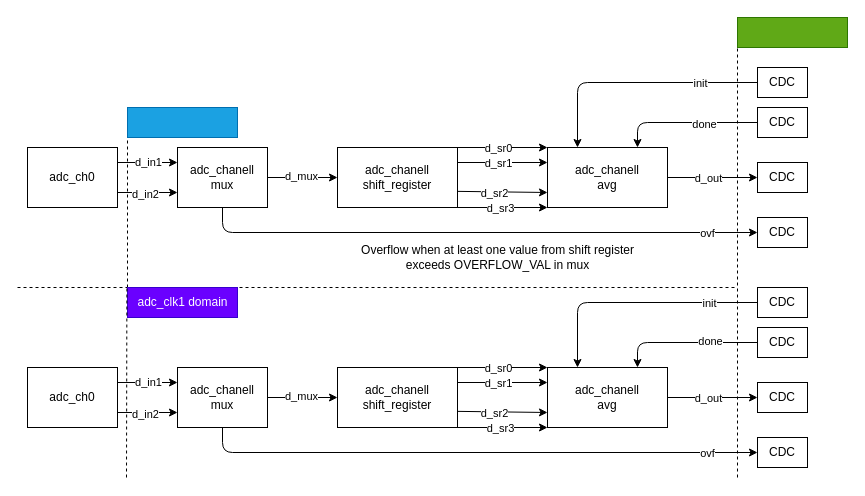
This 865x496 diagram has some shape labels left out. Each missing label, with the box of its shape:
adc_clk0 domain: (126, 106, 238, 138)
sys_clk domain: (736, 16, 848, 48)
